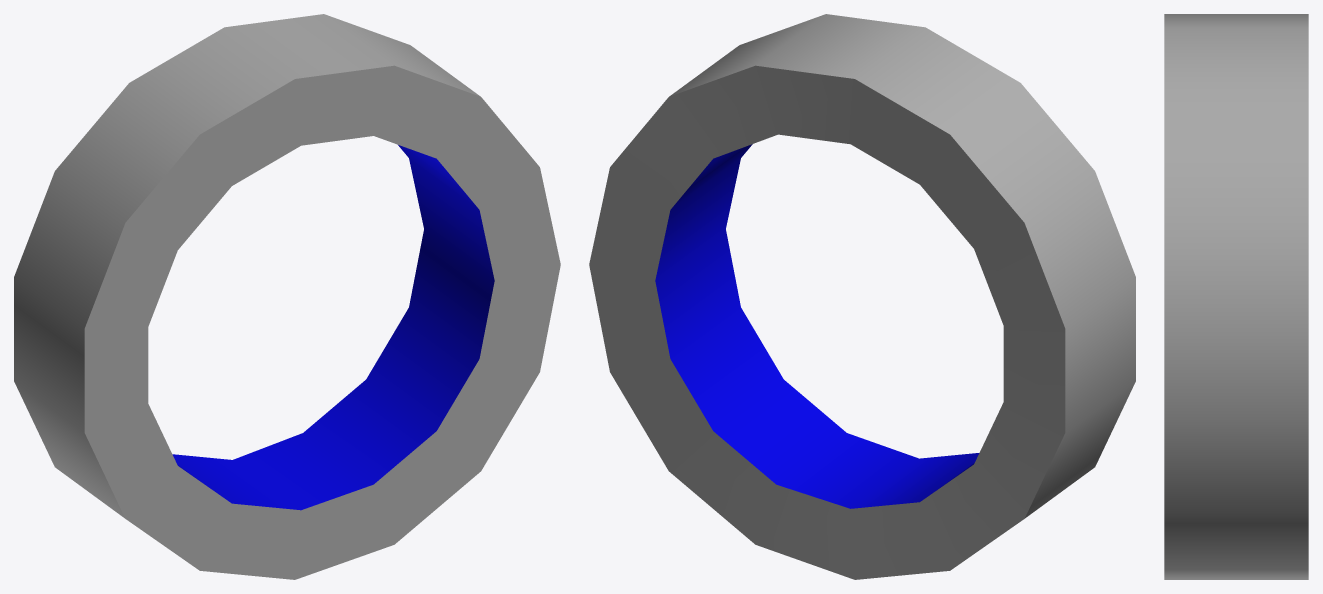
The model's file is Ring_Big.fbx.
The picture shows the model from 3 angles, left to right: view 1: azimuth 30°, elevation 25°; view 2: azimuth 150°, elevation 25°; view 3: azimuth 270°, elevation 25°; orthographic projection. The views are drawn at different scales.
Visible parts, largest first — view 1: RingBig:pCylinder1; view 2: RingBig:pCylinder1; view 3: RingBig:pCylinder1.
Boxes of the visible parts, x1=… form: RingBig:pCylinder1: x1=14, y1=14, x2=560, y2=579; RingBig:pCylinder1: x1=589, y1=14, x2=1135, y2=579; RingBig:pCylinder1: x1=1164, y1=14, x2=1308, y2=579.
Size of the model in its own units: 2.3 by 2.31 by 0.5897.
